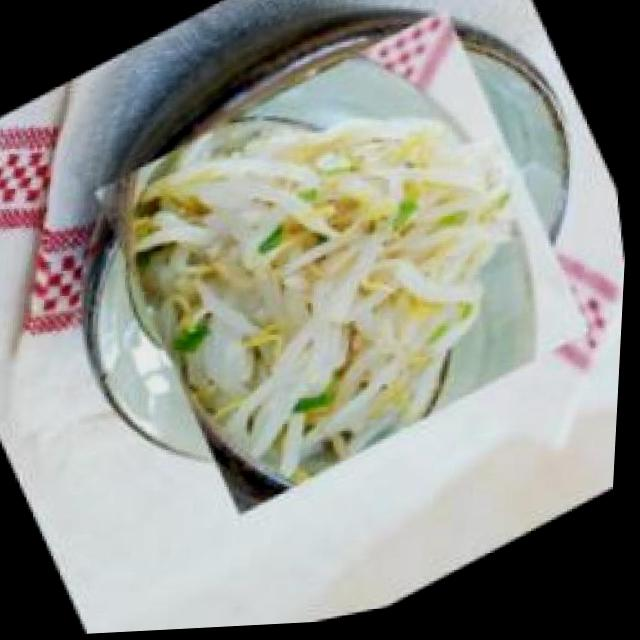mung_bean_sprouts: (68, 0, 624, 544)
